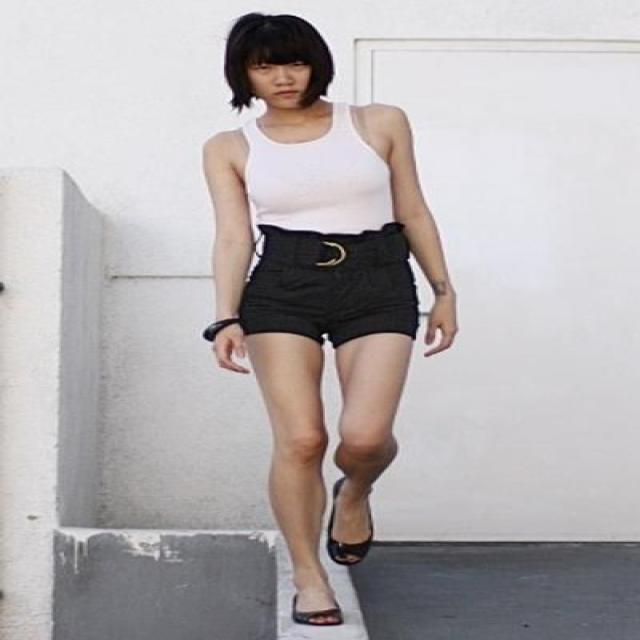shirt: (244, 115, 394, 240)
shoe: (293, 525, 374, 625)
shorts: (211, 218, 426, 344)
